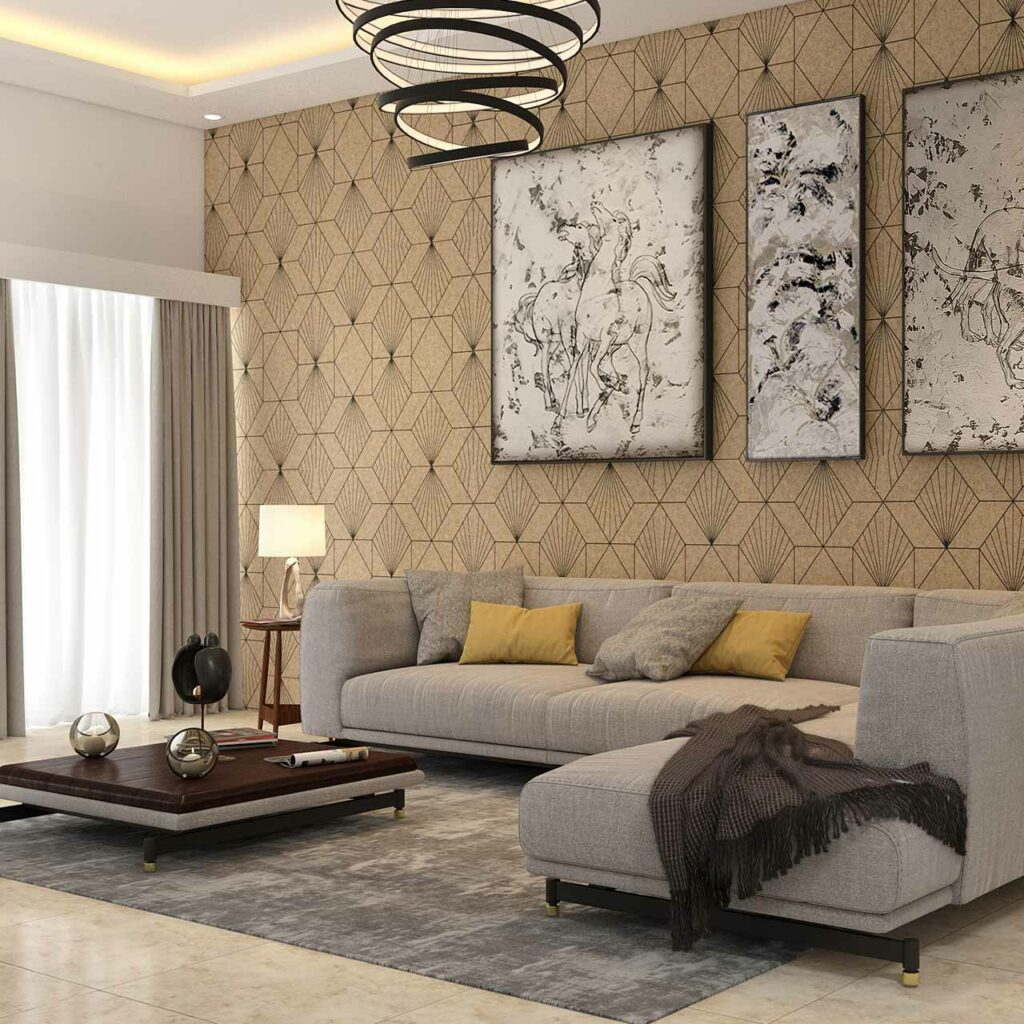Painting: (480, 122, 723, 463), (736, 100, 881, 466), (897, 73, 1024, 460)
Sofa: (296, 555, 1024, 985)
Table: (0, 720, 431, 854)
